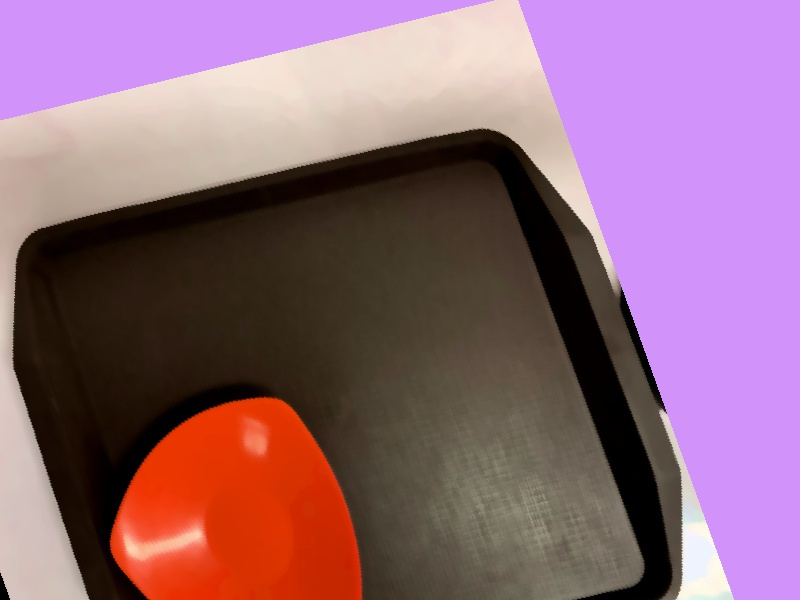dish11: (61, 375, 411, 599)
